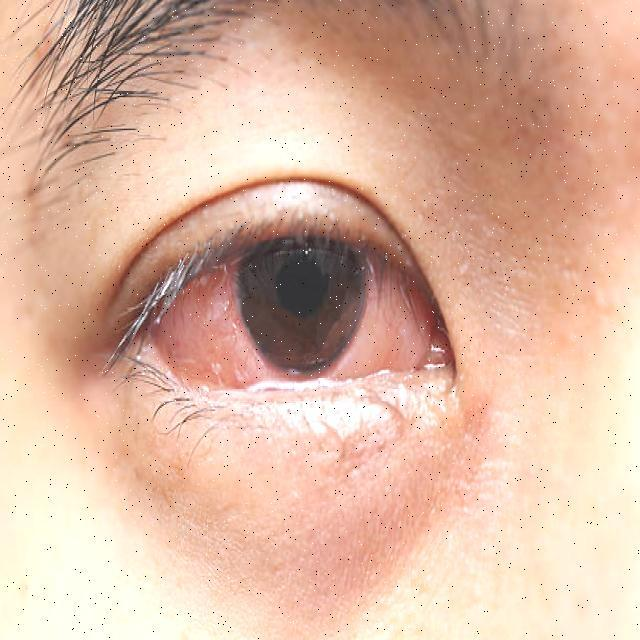Conjunctivitis: (140, 242, 438, 392)
